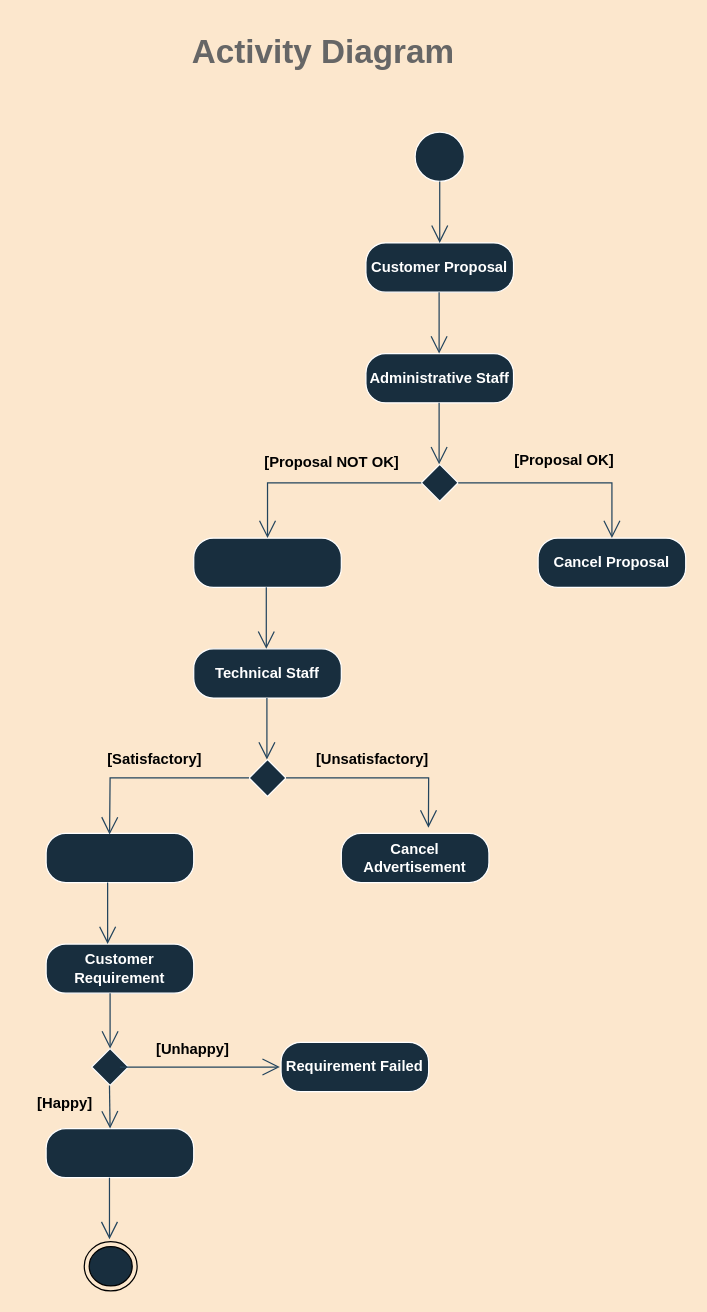
The diagram is 707 pixels wide and 1312 high, and some of its shapes have lost their labels. The centre of each missing label's shape, as x and y in pixels:
"Advertisement" belongs at (x=119, y=857).
"Campaign Run" belongs at (x=266, y=562).
"Payment" belongs at (x=119, y=1152).
